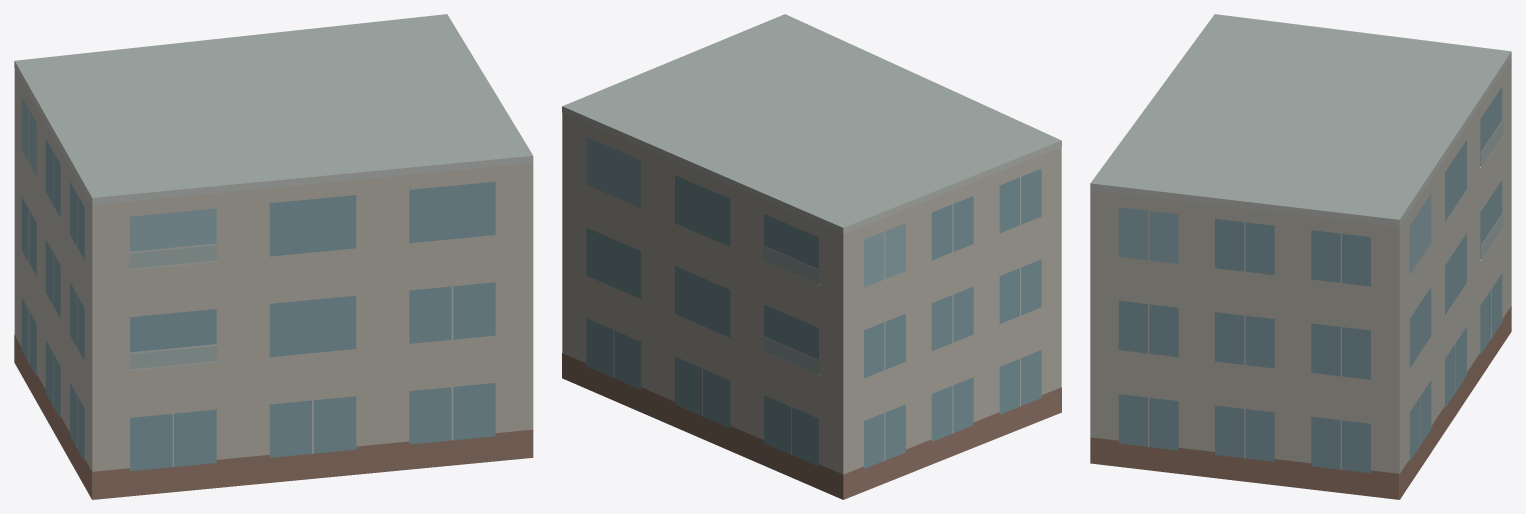
Rendered from survey-upis-33024448.glb.
3 renders of one model, left to right at view 1: azimuth 30°, elevation 25°; view 2: azimuth 150°, elevation 25°; view 3: azimuth 270°, elevation 25°, orthographic. The views are drawn at different scales.
Visible parts, largest first — view 1: survey-upis-33024448.tmp; view 2: survey-upis-33024448.tmp; view 3: survey-upis-33024448.tmp.
Boxes of the visible parts, left/top/right/bottom form: survey-upis-33024448.tmp: left=14, top=14, right=533, bottom=499; survey-upis-33024448.tmp: left=562, top=14, right=1061, bottom=499; survey-upis-33024448.tmp: left=1090, top=14, right=1511, bottom=499.
Size of the model in its own units: 16.09 by 10.2 by 13.92.
